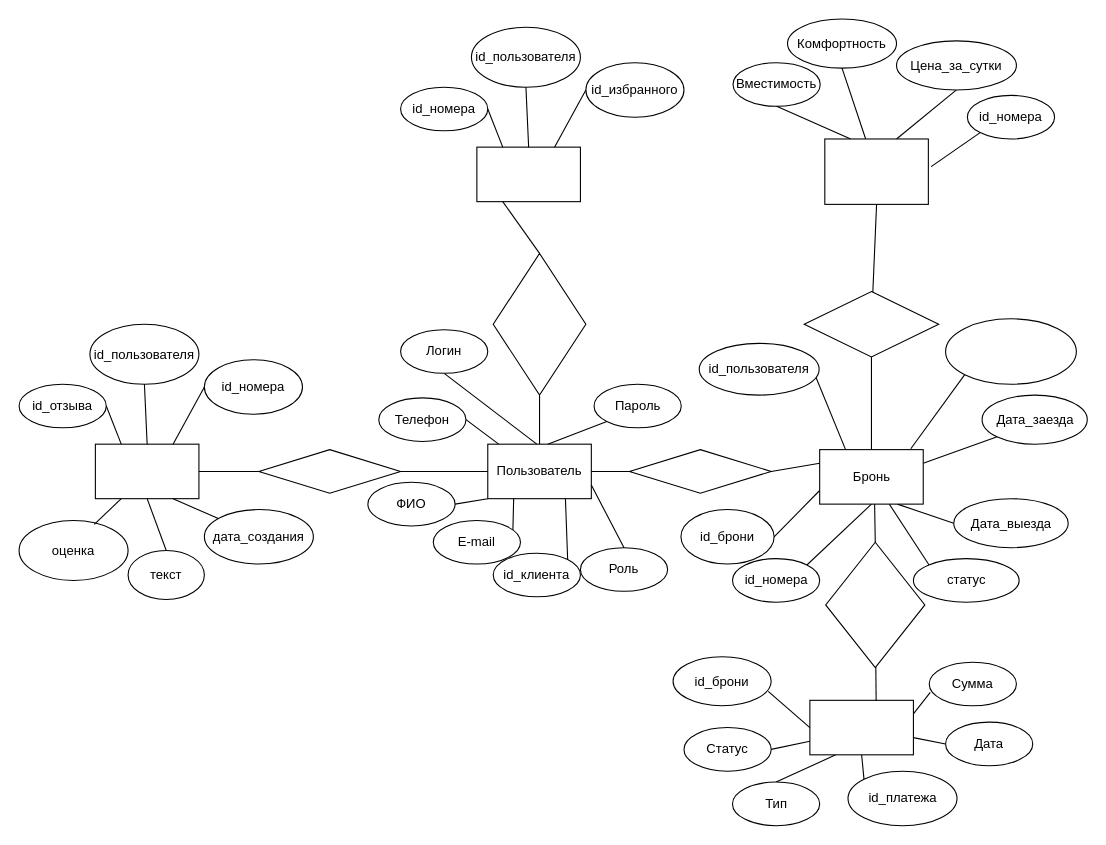
The diagram is 1106 pixels wide and 845 high, and some of its shapes have lost their labels. The shapes that lost their labels are listed below. From the top down, each one's centre as x and y in pixels, then its label:
[528,174]: Избранное
[876,171]: Номер
[539,323]: Добавляет
[871,323]: занимет
[1010,351]: Дата_бронирования
[146,471]: Отзыв
[329,471]: Оставляет
[699,471]: Оформляет
[875,604]: Оплачивается через
[861,727]: Платеж
